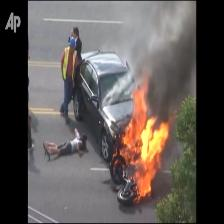fire: (120, 80, 169, 200)
